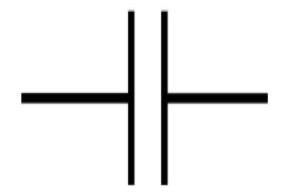Capacitor: (101, 1, 184, 186)
